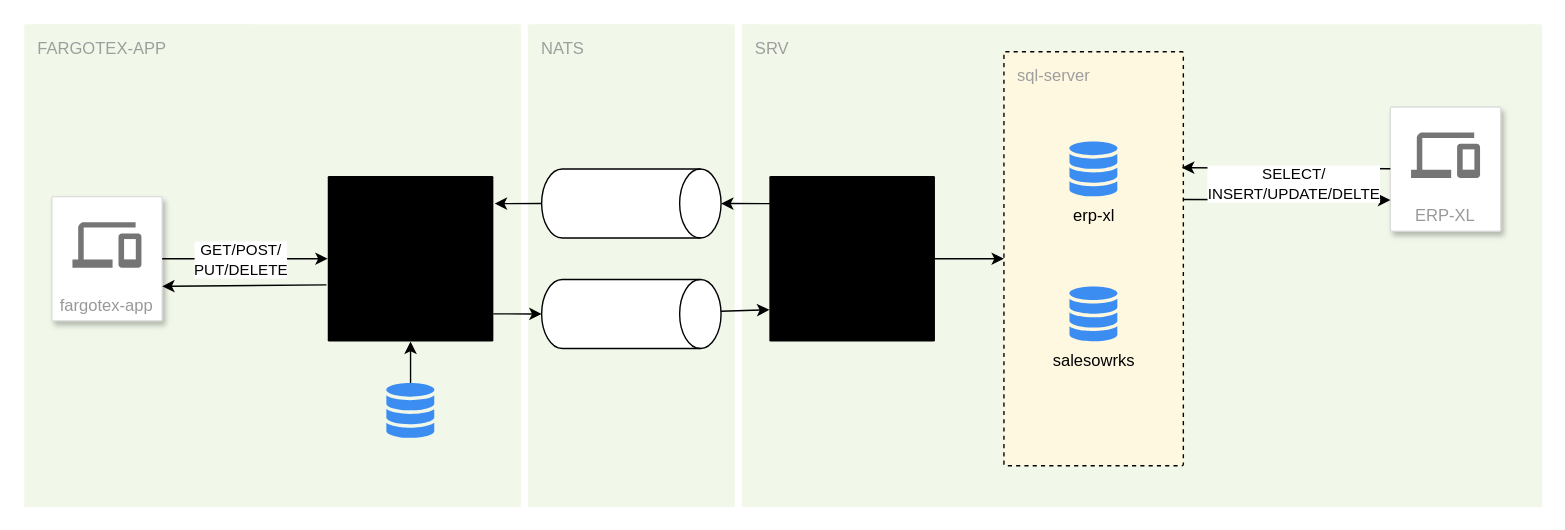
The diagram is 1565 pixels wide and 530 high, and some of its shapes have lost their labels. Here are the shapes that lost their labels. From the top down, the centre of each, then its label:
At (410,258): "s-works-api".
At (851,258): "s-works-slx".
At (410,409): "s-works".
